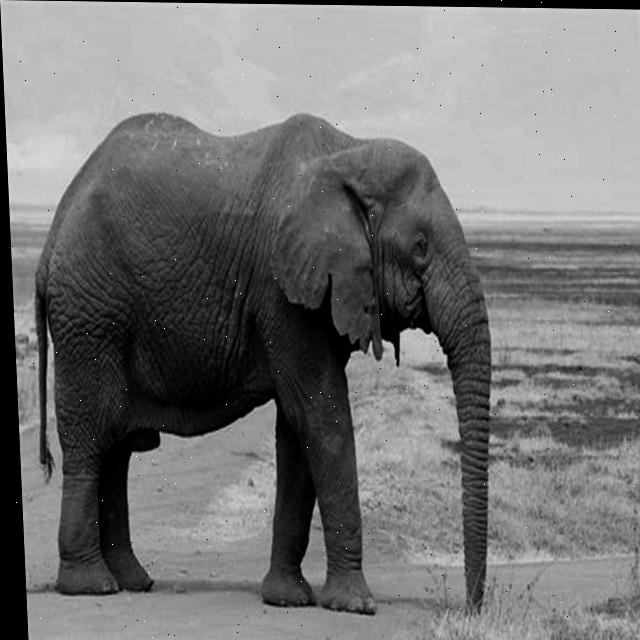Elephant: (23, 106, 504, 620)
